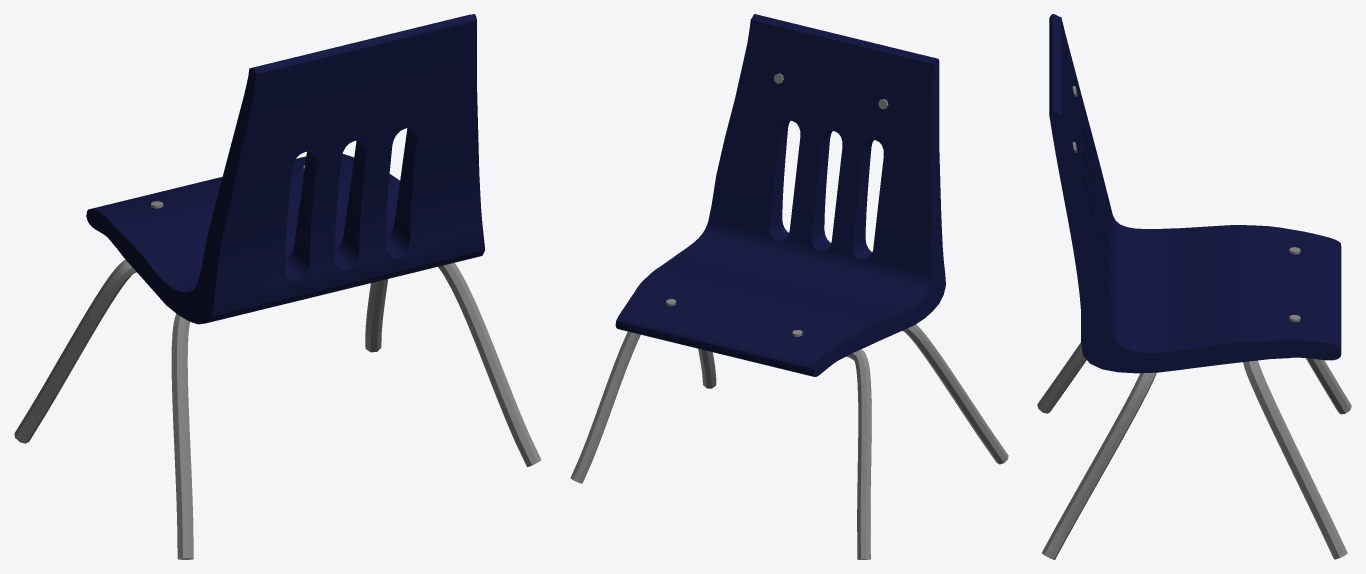
Rendered from chair.glb.
The picture shows the model from 3 angles, left to right: view 1: azimuth 30°, elevation 25°; view 2: azimuth 150°, elevation 25°; view 3: azimuth 270°, elevation 25°; orthographic projection. The views are drawn at different scales.
Visible parts, largest first — view 1: chair; view 2: chair; view 3: chair.
Part boxes in pixels (x1,y1,x2,y2): chair: [14, 14, 541, 559]; chair: [570, 14, 1008, 559]; chair: [1037, 14, 1351, 559].
Bounding box in the file's own units: 0.9506 × 1.18 × 0.7802.
